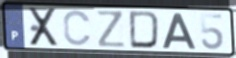5: (199, 12, 225, 51)
A: (161, 12, 198, 51)
C: (62, 9, 93, 48)
D: (128, 10, 162, 51)
X: (27, 6, 61, 48)
Z: (95, 9, 128, 50)
